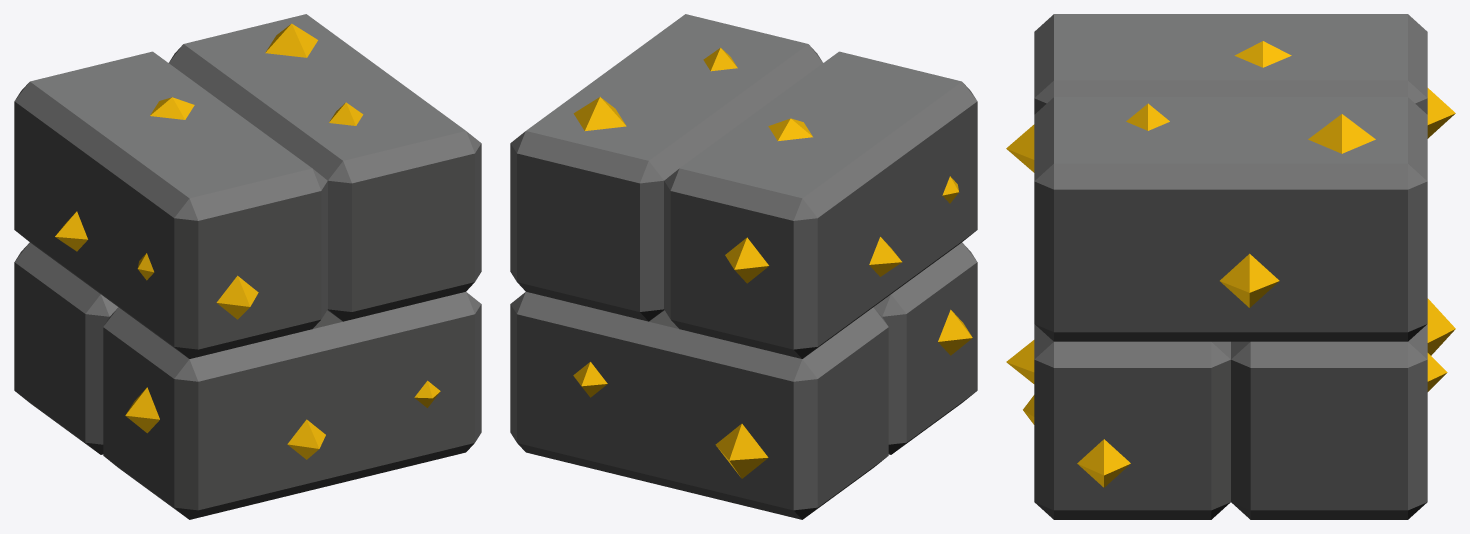
The model's file is m_kub_ore_brickPile.FBX.
The picture shows the model from 3 angles, left to right: view 1: azimuth 30°, elevation 25°; view 2: azimuth 150°, elevation 25°; view 3: azimuth 270°, elevation 25°; orthographic projection. The views are drawn at different scales.
Parts seen in each view (by area): view 1: m_kub_ore_brickPile; view 2: m_kub_ore_brickPile; view 3: m_kub_ore_brickPile.
Boxes of the visible parts, x1,y1,x2,y2 form: m_kub_ore_brickPile: (14,14,481,519); m_kub_ore_brickPile: (510,14,977,519); m_kub_ore_brickPile: (1006,14,1455,519).
Bounding box in the file's own units: 2.29 × 2.29 × 2.29.
